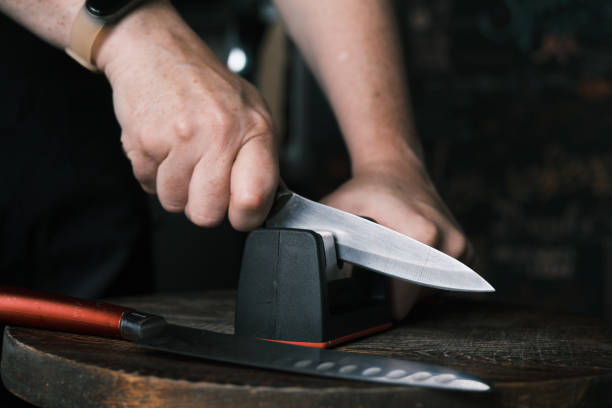knife: (0, 288, 495, 394), (262, 179, 499, 296)
